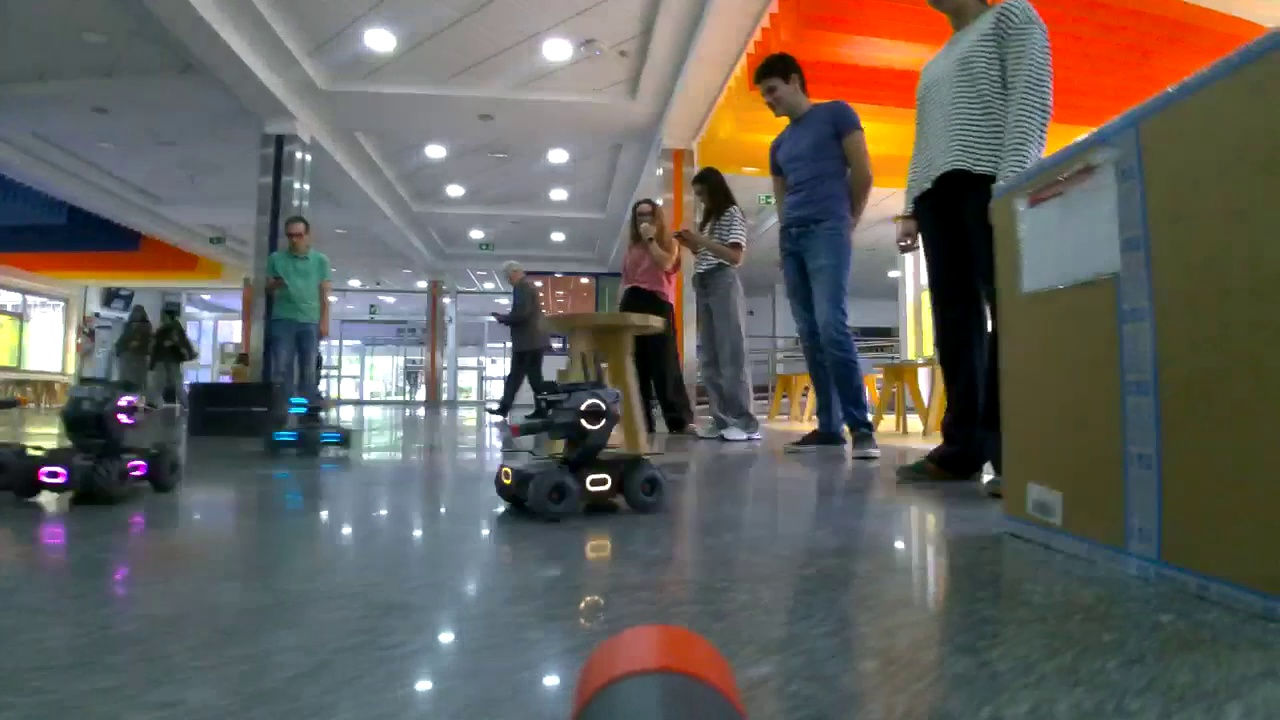robot: (493, 388, 665, 509)
